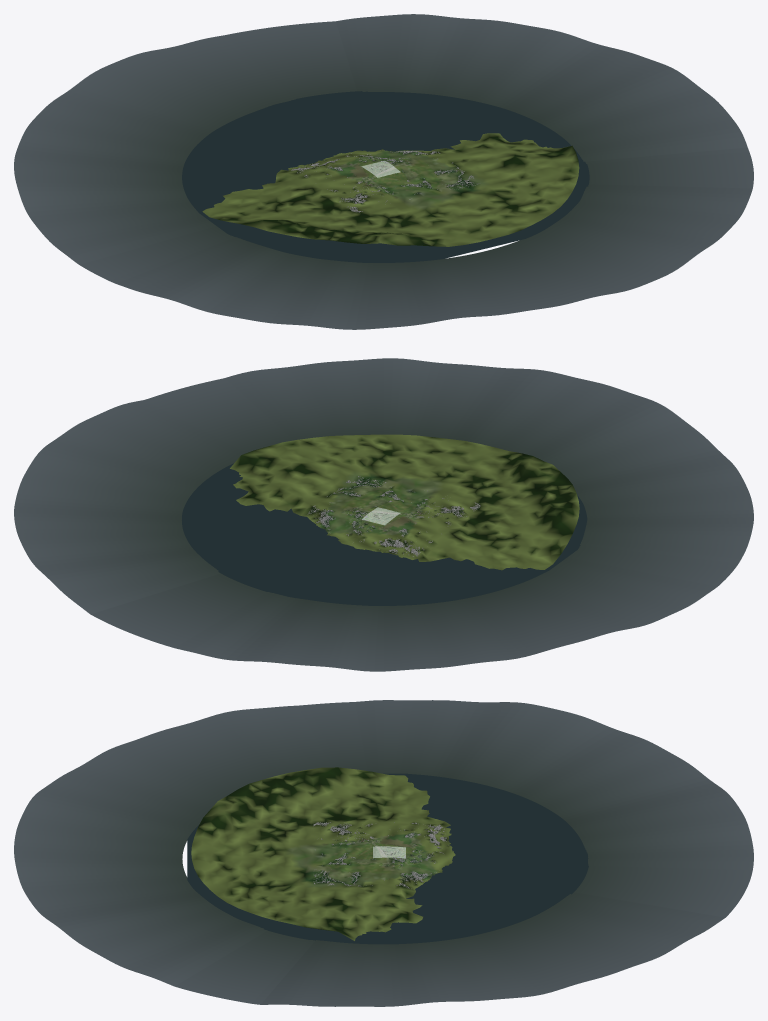
File: byneset_south_08.gltf
3 renders of one model, top to bottom at view 1: azimuth 30°, elevation 25°; view 2: azimuth 150°, elevation 25°; view 3: azimuth 270°, elevation 25°, orthographic.
Parts seen in each view (by area): view 1: FAR_Horizon, SURF_Far, WATER_Sea, FAR_Trees; view 2: FAR_Horizon, SURF_Far, WATER_Sea, FAR_Trees; view 3: FAR_Horizon, SURF_Far, WATER_Sea, FAR_Trees.
Part boxes in pixels (x1,y1,x2,y2): FAR_Horizon: [14, 14, 753, 329]; SURF_Far: [202, 133, 579, 246]; WATER_Sea: [182, 91, 589, 262]; FAR_Trees: [291, 150, 479, 212]; FAR_Horizon: [14, 358, 753, 671]; SURF_Far: [230, 434, 579, 570]; WATER_Sea: [182, 463, 587, 605]; FAR_Trees: [307, 476, 480, 556]; FAR_Horizon: [14, 700, 753, 1006]; SURF_Far: [191, 767, 455, 940]; WATER_Sea: [187, 773, 588, 944]; FAR_Trees: [313, 822, 448, 888].
Bounding box in the file's own units: 11200 × 275 × 11200.
